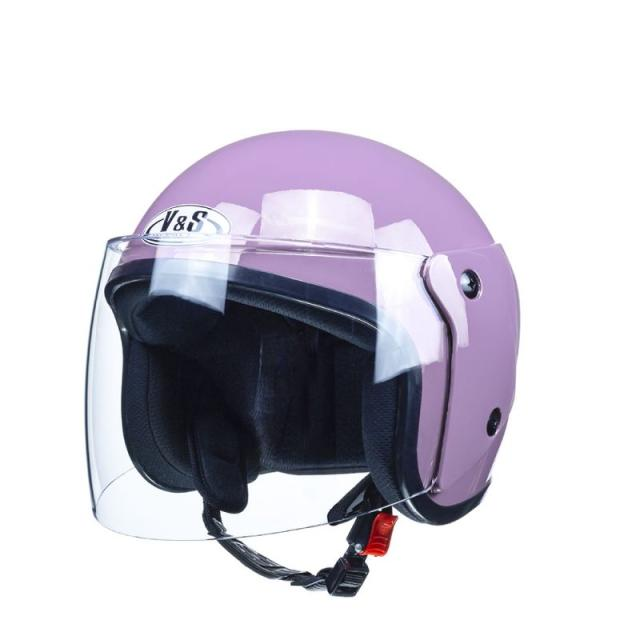helmet: (70, 118, 526, 608)
